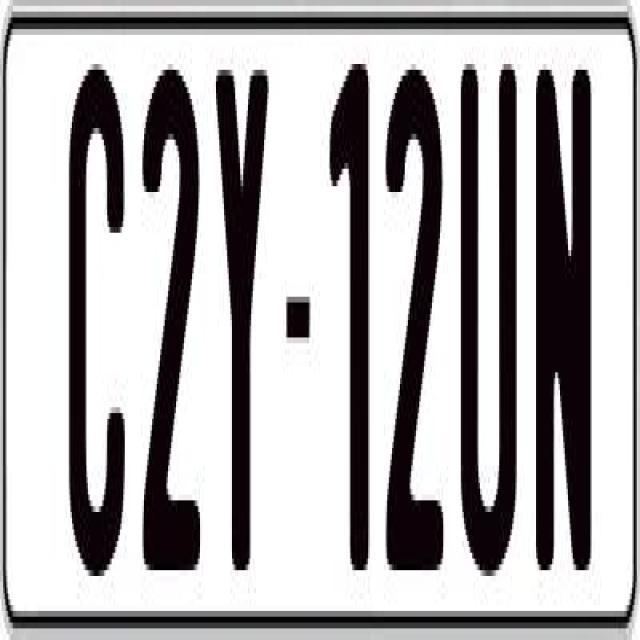1: (327, 52, 370, 588)
2: (381, 70, 445, 606), (140, 64, 199, 588)
C: (64, 70, 130, 600)
N: (531, 64, 593, 594)
U: (456, 64, 522, 600)
Y: (216, 53, 269, 559)
